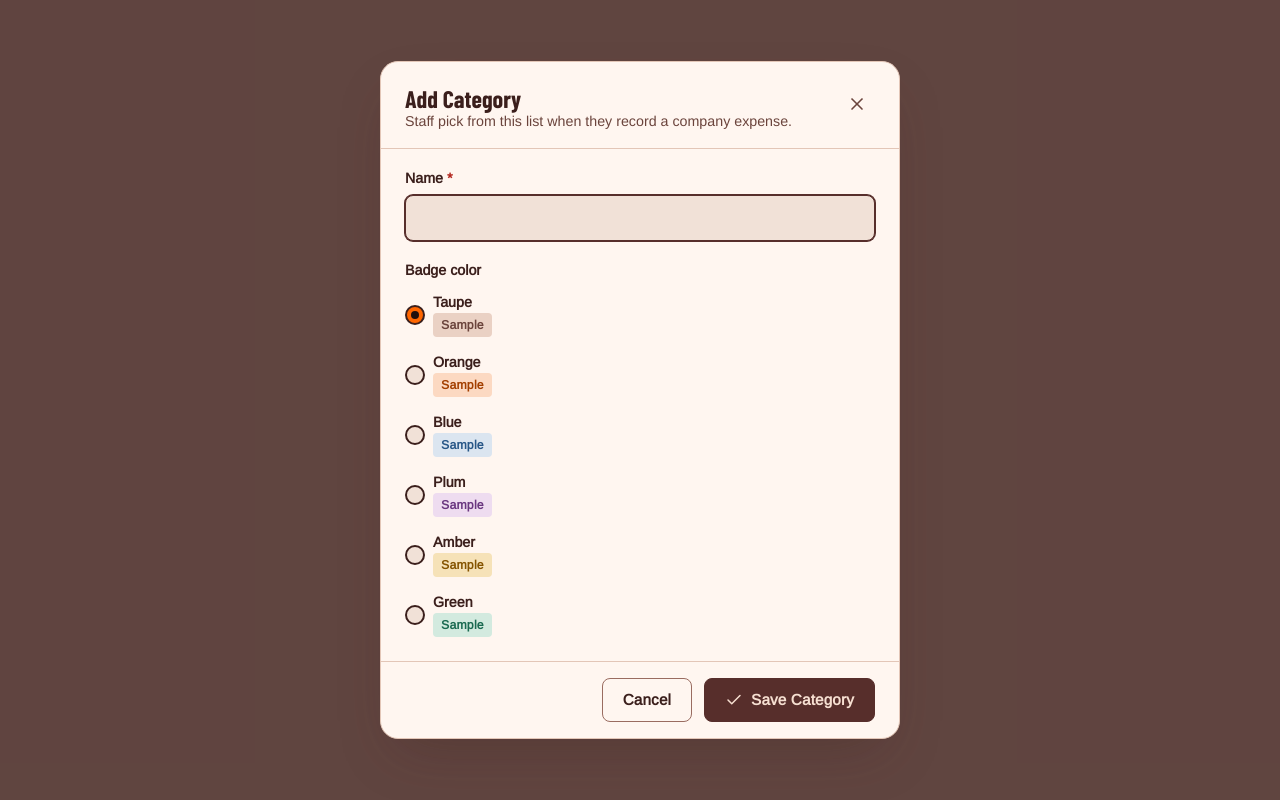
S2 add mode › shows the server duplicate-name message under Name, keeps what was typed and leaves the dialog open
The width and height of the screenshot is (1280, 800).
Type "Rent" into the field labelled "Name *" at (640, 218), box left=406, top=196, right=874, bottom=240
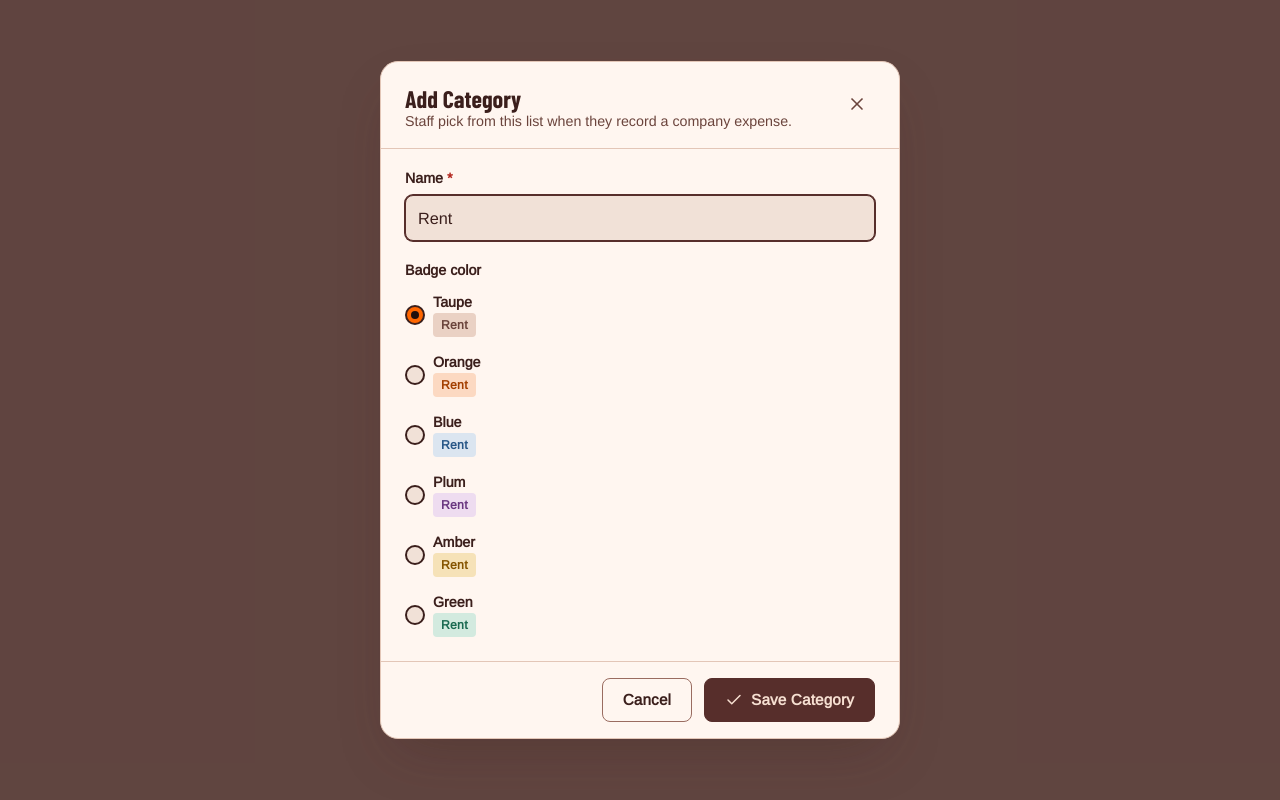
Click the radio button labelled "Plum" at (415, 495), box left=405, top=485, right=425, bottom=505
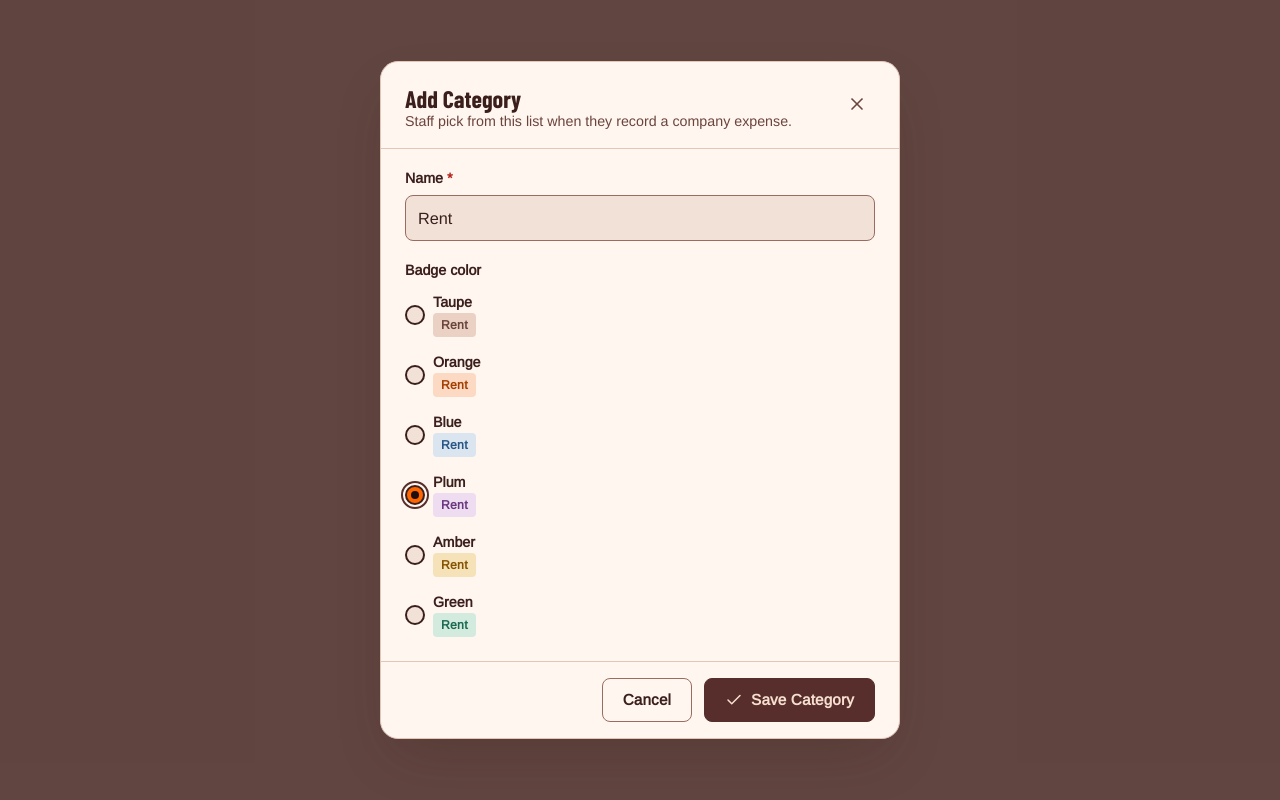
Click the button "Save Category" at (790, 700), box left=704, top=678, right=875, bottom=722
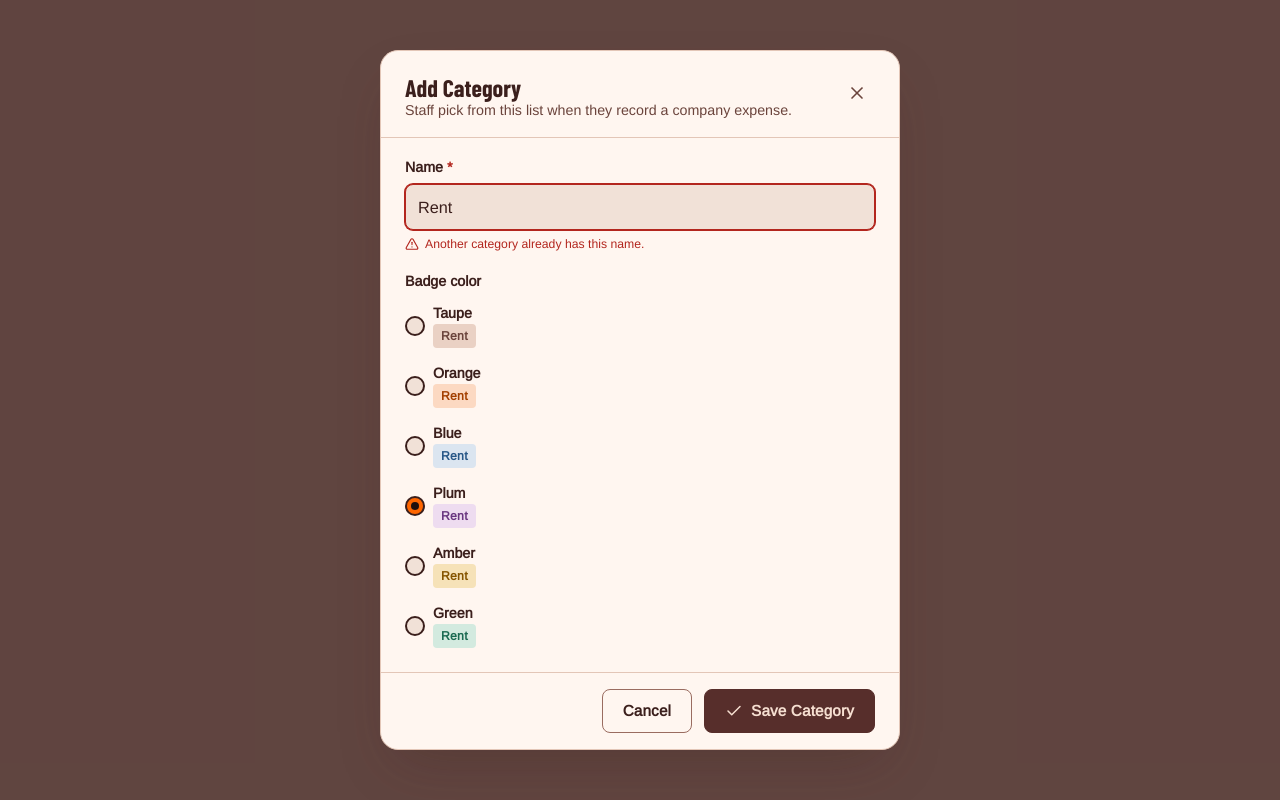
Check: the radio button labelled "Plum" is checked, box left=405, top=496, right=425, bottom=516
Check: the text "Another category already has this name." is shown, box left=405, top=237, right=644, bottom=251
